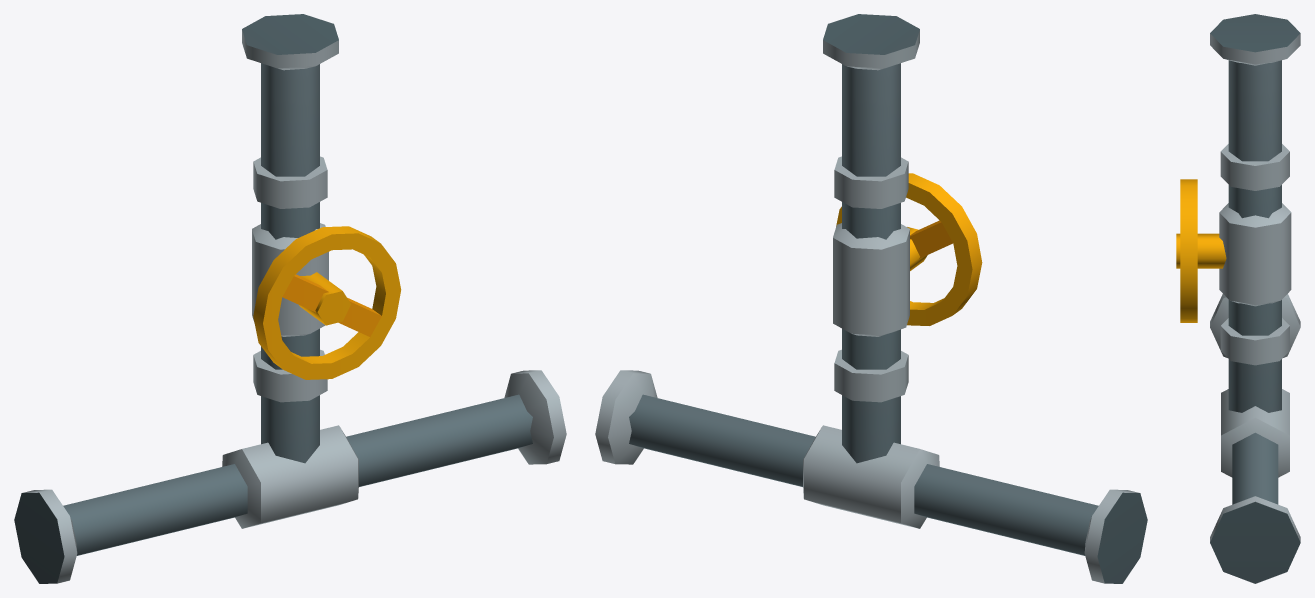
File: Pipe_005.glb
The picture shows the model from 3 angles, left to right: view 1: azimuth 30°, elevation 25°; view 2: azimuth 150°, elevation 25°; view 3: azimuth 270°, elevation 25°; orthographic projection. The views are drawn at different scales.
Parts seen in each view (by area): view 1: Pipe_005; view 2: Pipe_005; view 3: Pipe_005.
Boxes of the visible parts, left/top/right/bottom form: Pipe_005: left=14, top=14, right=566, bottom=583; Pipe_005: left=595, top=14, right=1147, bottom=583; Pipe_005: left=1176, top=14, right=1300, bottom=583.
Bounding box in the file's own units: 1.47 × 1.37 × 0.3498.
1 material, 1 textured.
